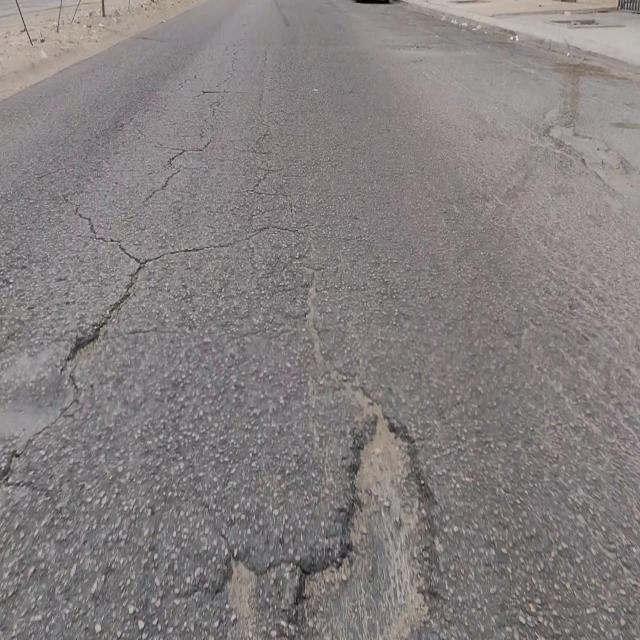Pothole: (288, 403, 436, 638)
